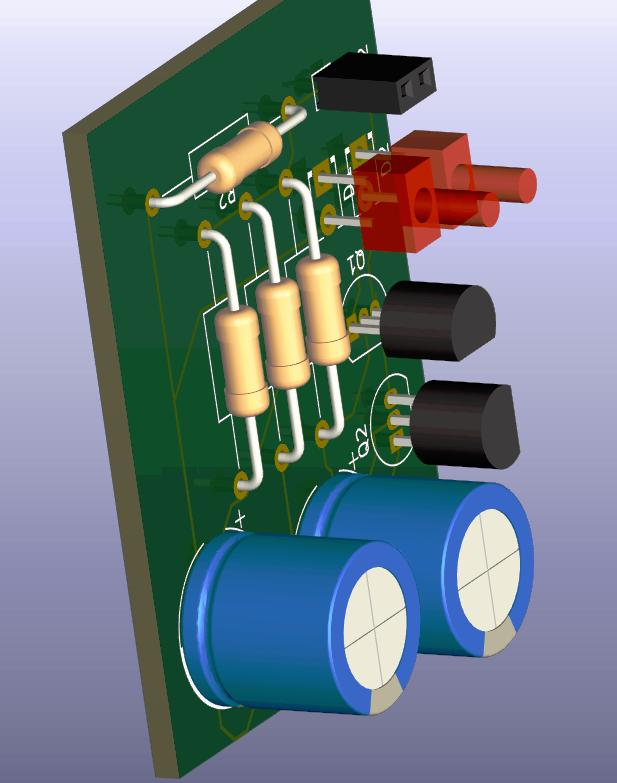capacitor: (296, 474, 540, 663), (175, 524, 415, 715)
diode_smd_orange: (348, 150, 501, 266), (389, 123, 541, 233)
resistor: (211, 292, 274, 437), (176, 119, 289, 197), (297, 252, 361, 376), (254, 271, 313, 399)
transistor: (400, 377, 524, 470), (375, 276, 499, 363)
